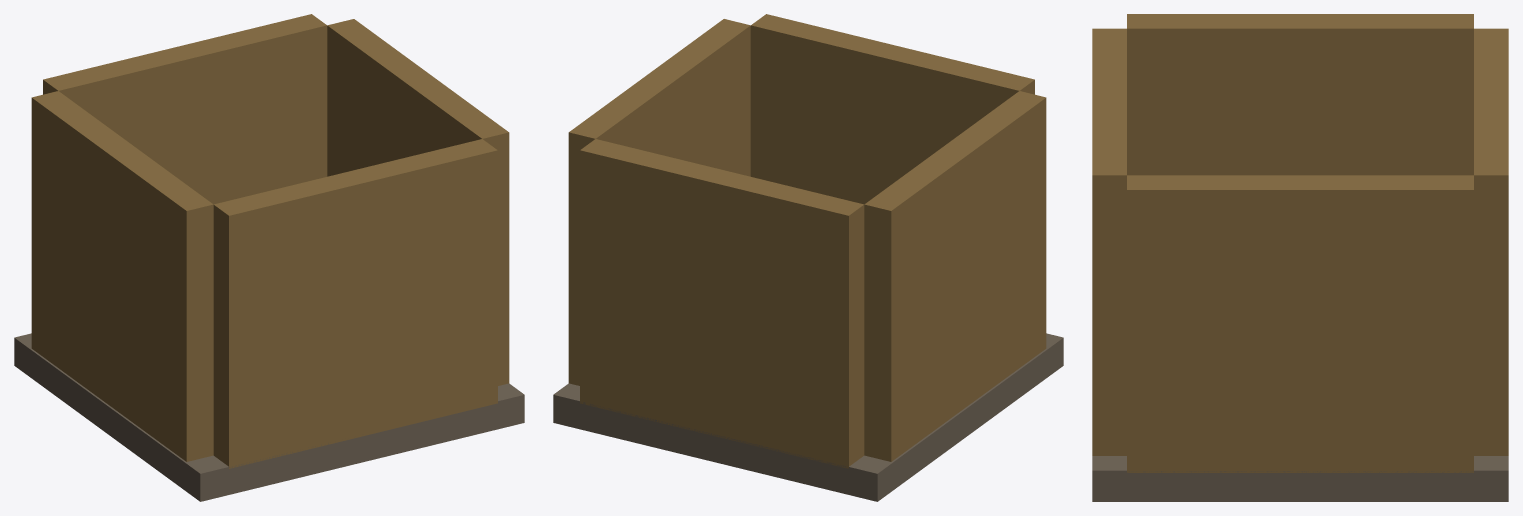
File: Attic.fbx
The picture shows the model from 3 angles, left to right: view 1: azimuth 30°, elevation 25°; view 2: azimuth 150°, elevation 25°; view 3: azimuth 270°, elevation 25°; orthographic projection. The views are drawn at different scales.
Visible parts, largest first — view 1: pCube11, pCube6, pCube13, pCube12, pCube14; view 2: pCube13, pCube6, pCube11, pCube12, pCube14; view 3: pCube12, pCube6, pCube11, pCube13, pCube14.
Part boxes in pixels (x1,y1,x2,y2): pCube11: (213, 139, 497, 468); pCube6: (31, 91, 213, 461); pCube13: (43, 14, 327, 204); pCube12: (327, 19, 509, 385); pCube14: (14, 333, 524, 501); pCube13: (580, 139, 864, 468); pCube6: (864, 91, 1046, 461); pCube11: (750, 14, 1034, 204); pCube12: (568, 19, 750, 385); pCube14: (553, 333, 1063, 501); pCube12: (1127, 175, 1473, 472); pCube6: (1127, 14, 1473, 175); pCube11: (1092, 28, 1126, 455); pCube13: (1474, 28, 1508, 455); pCube14: (1092, 456, 1508, 501).
Size of the model in its own units: 12.07 by 9.93 by 12.
